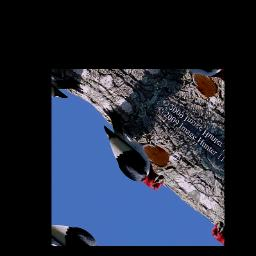Woodpecker: (79, 99, 187, 203)
